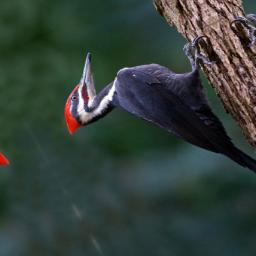Woodpecker: (37, 4, 256, 256)
